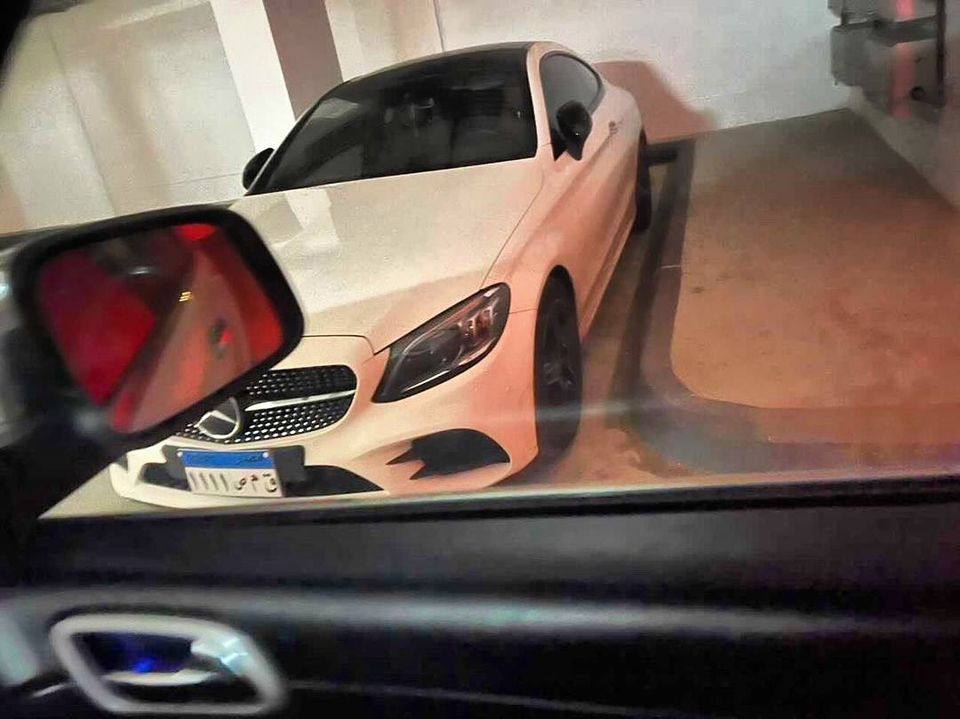carpl: (186, 452, 280, 494)
